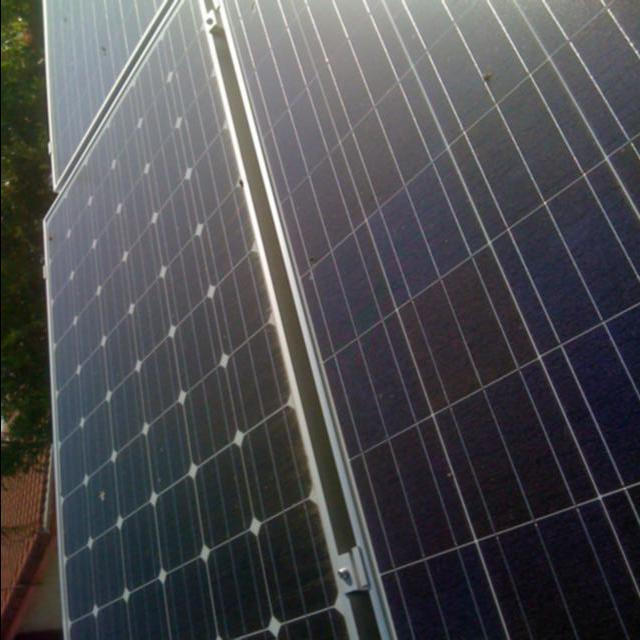soiled: (232, 0, 640, 634), (42, 6, 359, 640)
